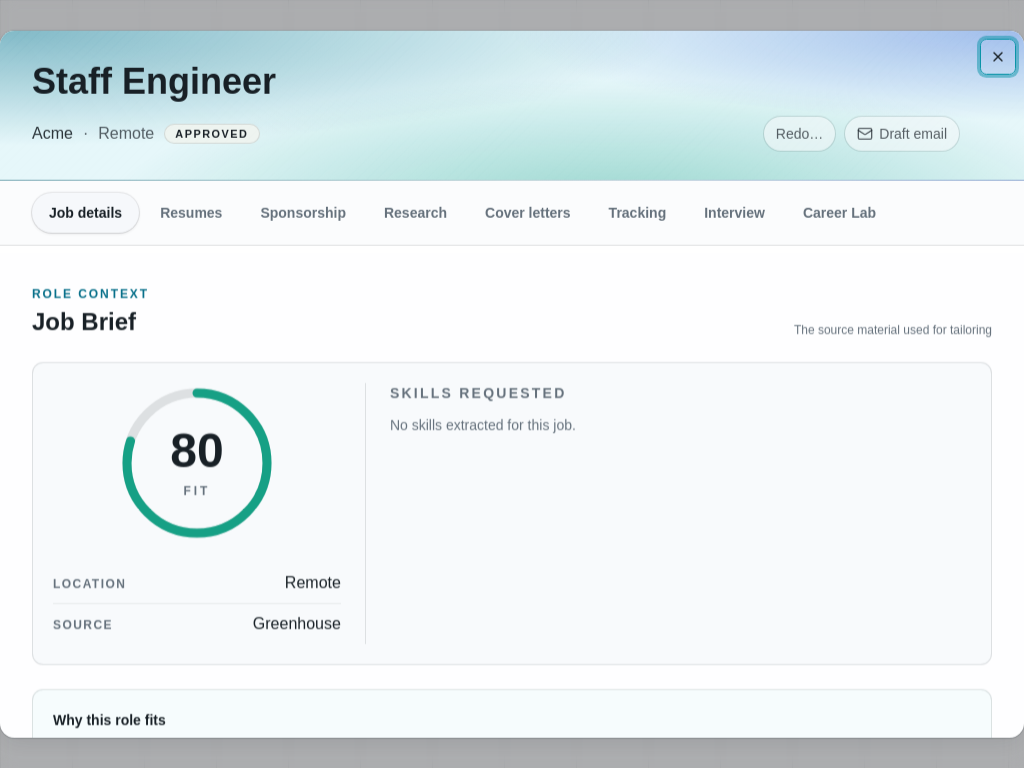
Test case: JobModal › gives company intelligence the full research canvas
This screenshot has width=1024, height=768.
Click the tab "Research".
click(416, 213)  # box [367,193,464,233]
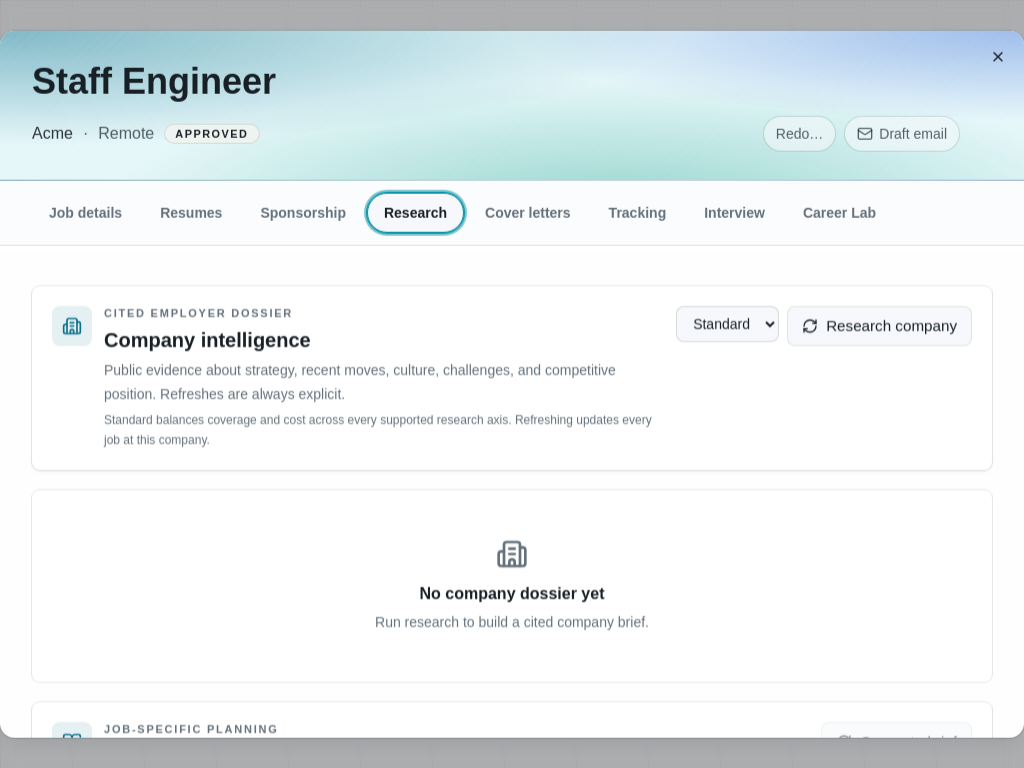
Expected: the heading "Company intelligence" is shown, [104,328,311,350]
Expected: the button with aria-label "research company for acme" is enabled, [787,306,972,346]
